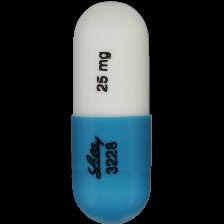64725-3228: (0, 0, 224, 224)
